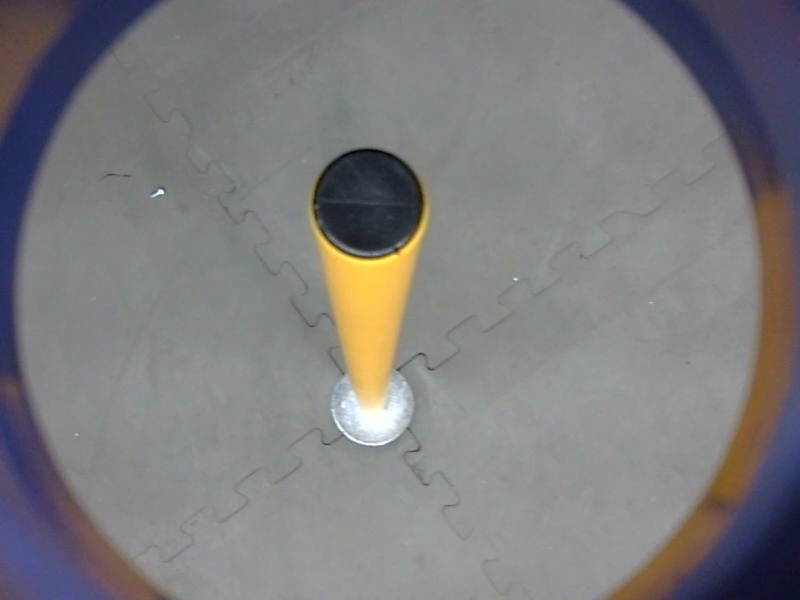tip: (300, 142, 436, 269)
